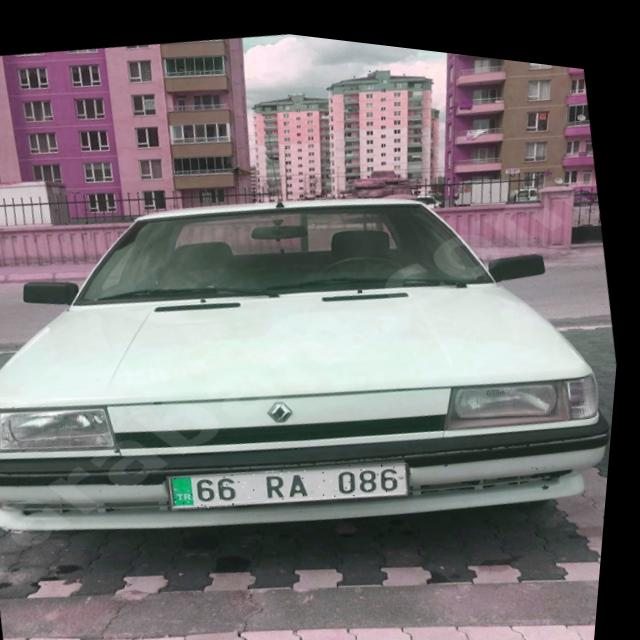license_plate: (174, 427, 418, 527)
